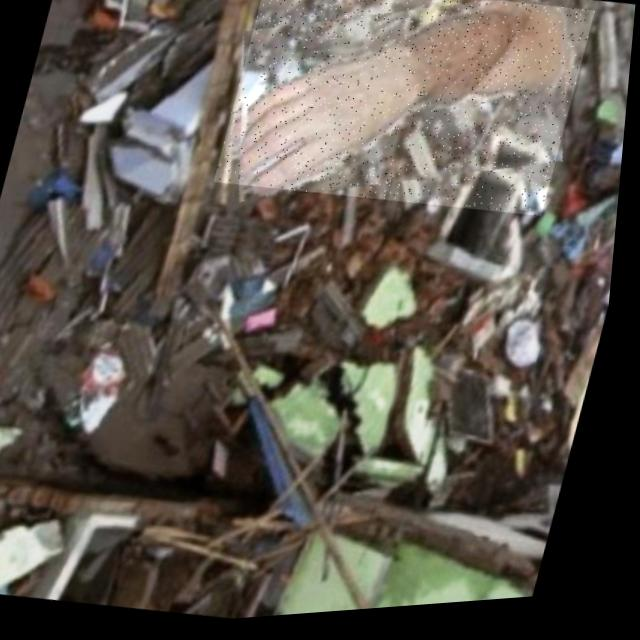Person in Rubble: (211, 0, 598, 244)
